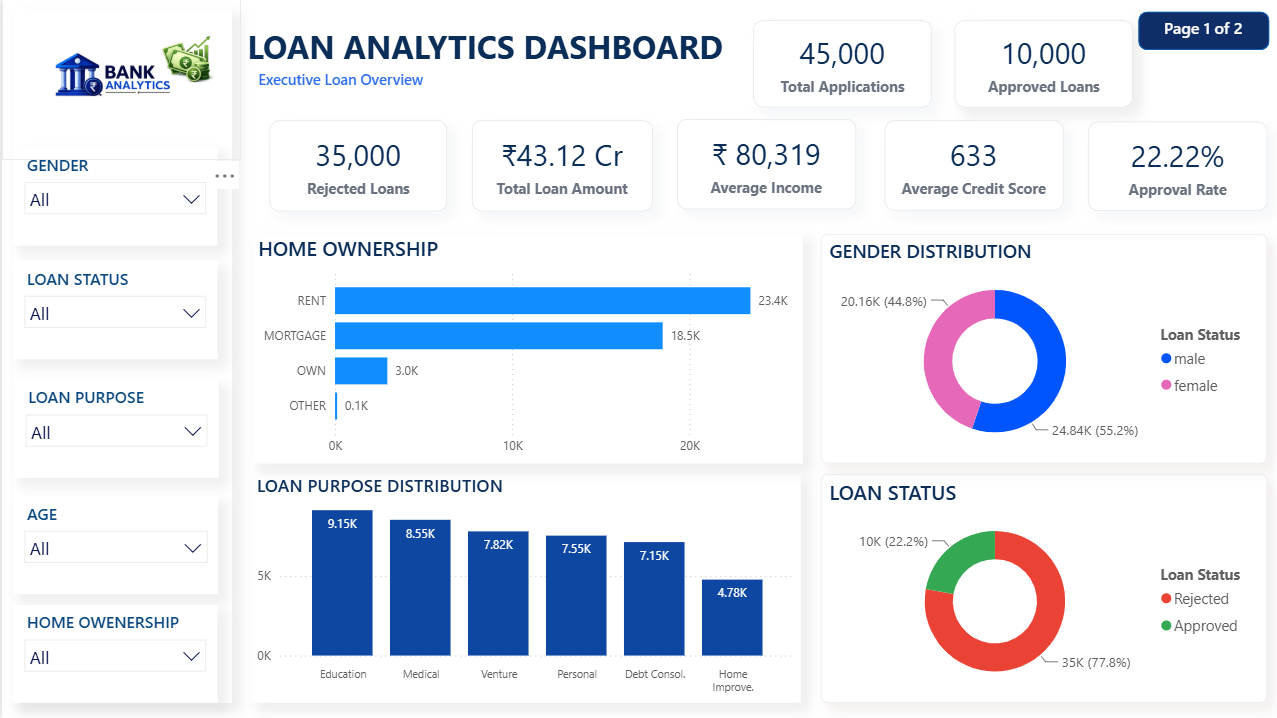

This screenshot's page, from the dashboard's own definition file:
{"tool":"powerbi","page":{"name":"Page 1","canvas":[1280,720],"ordinal":0},"visuals":[{"type":"textbox","box":[215.6,20.8,536.4,55.8],"z":0},{"type":"textbox","box":[250.9,65.1,299.2,31.4],"z":1000},{"type":"card","title":"Total Applicants","fields":{"Values":["loan_data (1).Total Applications"]},"box":[751.2,21.2,178.8,87.5],"z":2000},{"type":"card","title":"Total Applicants","fields":{"Values":["loan_data (1).Approval Rate"]},"box":[1085.7,122.1,179.2,89.6],"z":3000},{"type":"card","title":"Total Applicants","fields":{"Values":["loan_data (1).Approved Loans"]},"box":[952.5,21.2,178.8,87.5],"z":4000},{"type":"card","title":"Total Applicants","fields":{"Values":["loan_data (1).Average Income"]},"box":[675,120.5,178.9,90.1],"z":5000},{"type":"card","title":"Total Applicants","fields":{"Values":["loan_data (1).Total Loan Amountt"]},"box":[470.1,120.8,180.5,90.9],"z":6000},{"type":"card","title":"Total Applicants","fields":{"Values":["loan_data (1).Rejected Loans"]},"box":[267.5,120.8,177.9,90.9],"z":7000},{"type":"card","title":"Total Applicants","fields":{"Values":["loan_data (1).Average Credit Score"]},"box":[883.1,121.8,178.9,90.1],"z":8000},{"type":"donutChart","title":"LOAN STATUS","fields":{"Y":["CountNonNull(loan_data (1).loan_status)"],"Category":["loan_data (1).Loan Status Name"]},"box":[818.2,475.3,446.8,228.6],"z":9000},{"type":"clusteredColumnChart","title":"LOAN PURPOSE DISTRIBUTION","fields":{"Y":["CountNonNull(loan_data (1).loan_intent)"],"Category":["loan_data (1).Loan Purpose Display"]},"box":[250,475,548.8,228.8],"z":10000},{"type":"clusteredBarChart","title":"HOME OWNERSHIP","fields":{"Category":["loan_data (1).person_home_ownership"],"Y":["CountNonNull(loan_data (1).person_home_ownership)"]},"box":[250.6,235.1,549.4,229.9],"z":11000},{"type":"donutChart","title":"GENDER DISTRIBUTION","fields":{"Y":["CountNonNull(loan_data (1).person_gender)"],"Category":["loan_data (1).person_gender"]},"box":[818.2,235.1,446.8,229.9],"z":12000},{"type":"shape","box":[11.7,10.4,219.5,693.5],"z":13000},{"type":"slicer","fields":{"Values":["loan_data (1).person_gender"]},"box":[11.2,148.8,203.8,97.5],"z":14000},{"type":"slicer","fields":{"Values":["loan_data (1).Loan Purpose Display"]},"box":[12.5,381.2,203.8,97.5],"z":15000},{"type":"slicer","fields":{"Values":["loan_data (1).Loan Status Name"]},"box":[11.2,262.5,203.8,97.5],"z":16000},{"type":"slicer","fields":{"Values":["loan_data (1).person_age"]},"box":[11.2,497.5,205,97.5],"z":17000},{"type":"slicer","fields":{"Values":["loan_data (1).person_home_ownership"]},"box":[11.2,606.2,203.8,97.5],"z":18000},{"type":"image","box":[0,0,239,161],"z":19000},{"type":"shape","title":"Page 2 of 2","box":[1136.2,12.5,131.2,38.8],"z":20000},{"type":"textbox","box":[1152.5,12.5,115,40],"z":21000}]}

Visuals, with their boxes in screenshot pixels (x1, y1, x2, y2), scaled from the page's 1280x720 canvas onto the 1277x718 screenshot:
textbox: {"left": 215, "top": 21, "right": 750, "bottom": 76}
textbox: {"left": 250, "top": 65, "right": 549, "bottom": 96}
"Total Applicants" card: {"left": 749, "top": 21, "right": 928, "bottom": 108}
"Total Applicants" card: {"left": 1083, "top": 122, "right": 1262, "bottom": 211}
"Total Applicants" card: {"left": 950, "top": 21, "right": 1129, "bottom": 108}
"Total Applicants" card: {"left": 673, "top": 120, "right": 852, "bottom": 210}
"Total Applicants" card: {"left": 469, "top": 120, "right": 649, "bottom": 211}
"Total Applicants" card: {"left": 267, "top": 120, "right": 444, "bottom": 211}
"Total Applicants" card: {"left": 881, "top": 121, "right": 1060, "bottom": 211}
"LOAN STATUS" donutChart: {"left": 816, "top": 474, "right": 1262, "bottom": 702}
"LOAN PURPOSE DISTRIBUTION" clusteredColumnChart: {"left": 249, "top": 474, "right": 797, "bottom": 702}
"HOME OWNERSHIP" clusteredBarChart: {"left": 250, "top": 234, "right": 798, "bottom": 464}
"GENDER DISTRIBUTION" donutChart: {"left": 816, "top": 234, "right": 1262, "bottom": 464}
shape: {"left": 12, "top": 10, "right": 231, "bottom": 702}
slicer - loan_data (1).person_gender: {"left": 11, "top": 148, "right": 214, "bottom": 246}
slicer - loan_data (1).Loan Purpose Display: {"left": 12, "top": 380, "right": 216, "bottom": 477}
slicer - loan_data (1).Loan Status Name: {"left": 11, "top": 262, "right": 214, "bottom": 359}
slicer - loan_data (1).person_age: {"left": 11, "top": 496, "right": 216, "bottom": 593}
slicer - loan_data (1).person_home_ownership: {"left": 11, "top": 605, "right": 214, "bottom": 702}
image: {"left": 0, "top": 0, "right": 238, "bottom": 161}
"Page 2 of 2" shape: {"left": 1134, "top": 12, "right": 1264, "bottom": 51}
textbox: {"left": 1150, "top": 12, "right": 1265, "bottom": 52}
